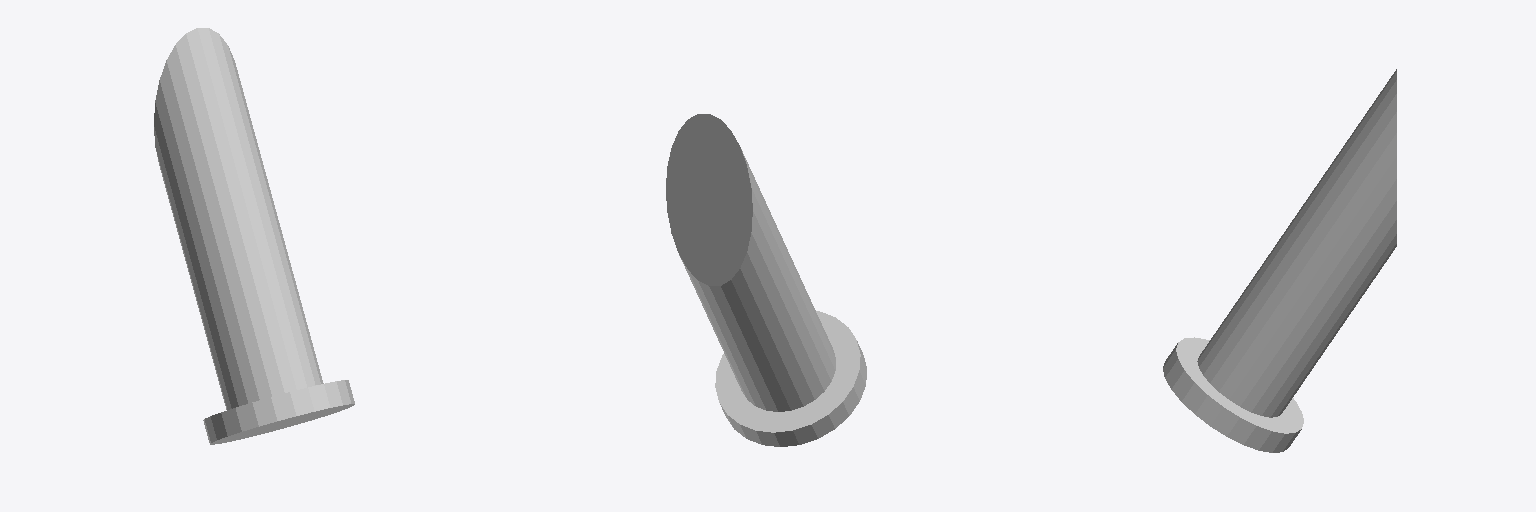
Rendered from pipe.obj.
The picture shows the model from 3 angles: view 1: azimuth 30°, elevation 25°; view 2: azimuth 150°, elevation 25°; view 3: azimuth 270°, elevation 25°; orthographic projection.
Parts seen in each view (by area): view 1: Cylinder001, Cylinder002; view 2: Cylinder001, Cylinder002; view 3: Cylinder001, Cylinder002.
Boxes of the visible parts, x1,y1,x2,y2 form: Cylinder001: [154, 28, 323, 409]; Cylinder002: [203, 380, 354, 444]; Cylinder001: [666, 114, 835, 411]; Cylinder002: [715, 311, 866, 446]; Cylinder001: [1197, 69, 1396, 417]; Cylinder002: [1163, 337, 1303, 452].
Size of the model in its own units: 120 by 324 by 186.